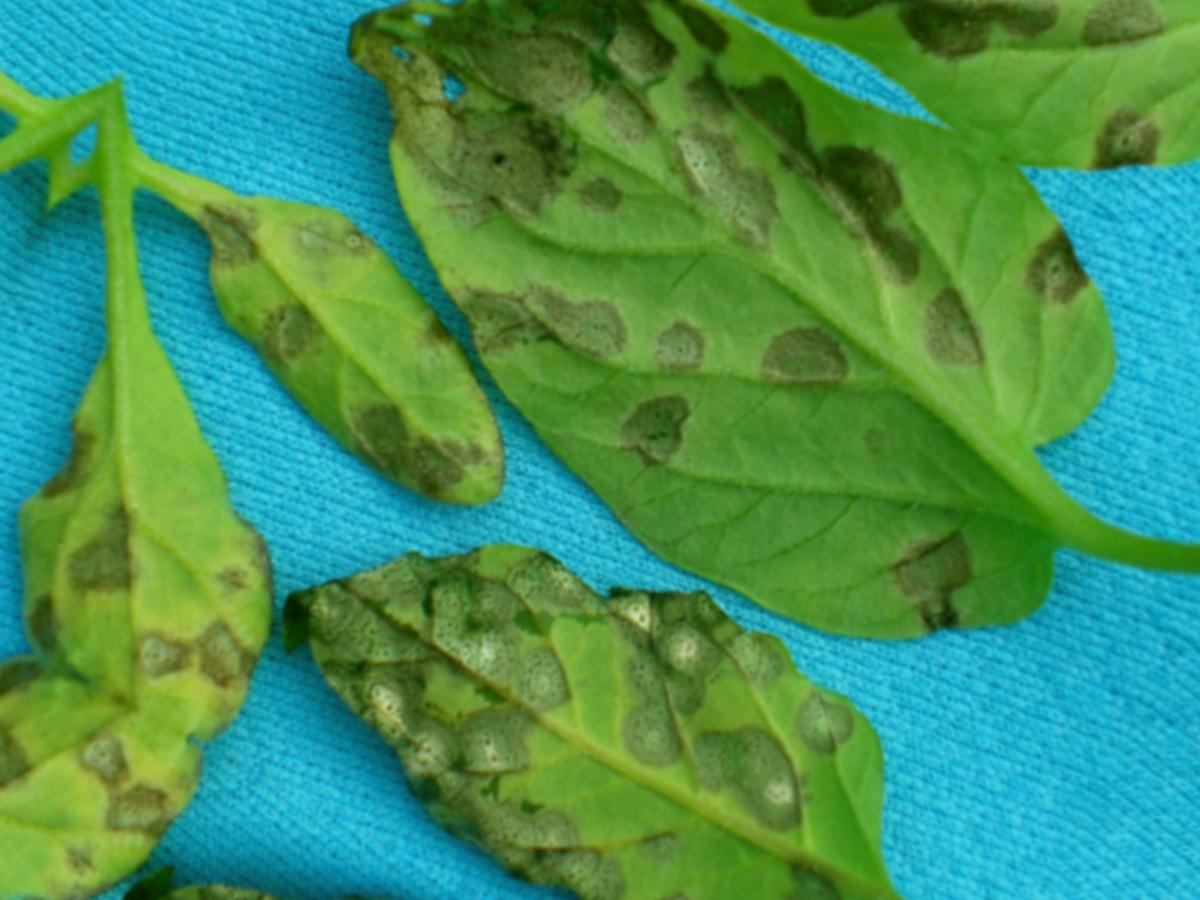Tomato Septoria leaf spot: (182, 0, 1200, 750), (189, 405, 1061, 900), (121, 146, 595, 542), (0, 277, 382, 746)
